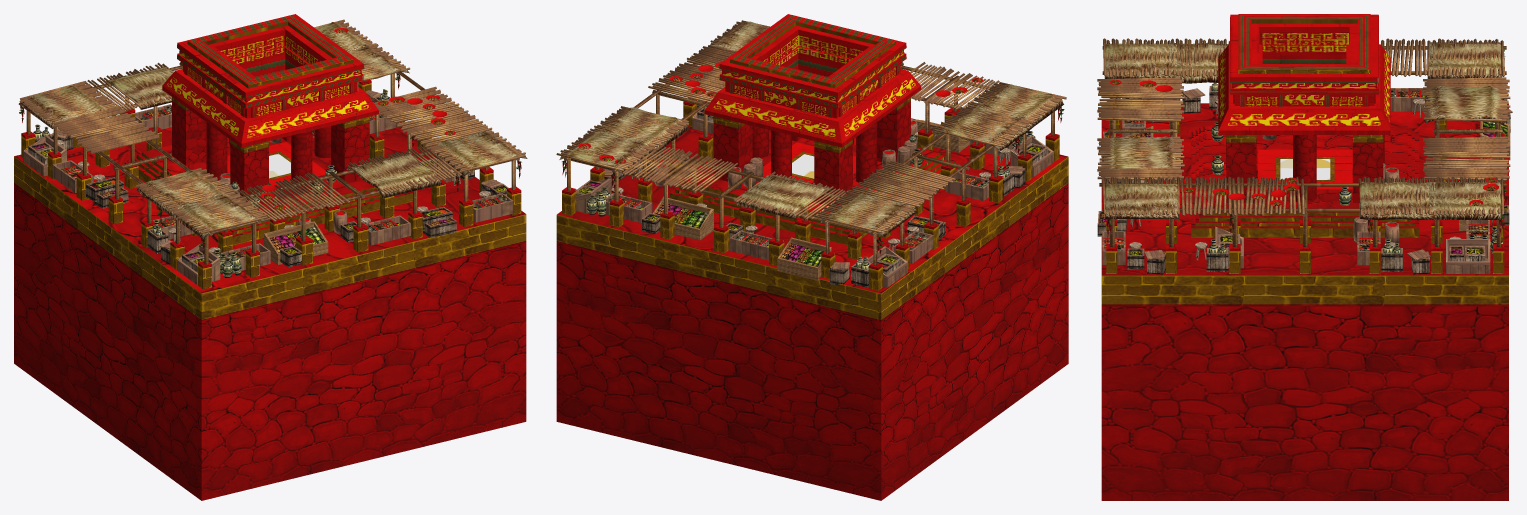
The model's file is zapo_market.dae.
3 views of the same model, side by side, from view 1: azimuth 30°, elevation 25°; view 2: azimuth 150°, elevation 25°; view 3: azimuth 270°, elevation 25° (orthographic). The views are drawn at different scales.
Visible parts, largest first — view 1: Defense_Tower_001; view 2: Defense_Tower_001; view 3: Defense_Tower_001.
Boxes of the visible parts, x1=… form: Defense_Tower_001: x1=14, y1=14, x2=527, y2=500; Defense_Tower_001: x1=556, y1=14, x2=1068, y2=500; Defense_Tower_001: x1=1097, y1=14, x2=1512, y2=500.
Size of the model in its own units: 28.26 by 28.54 by 28.25.
